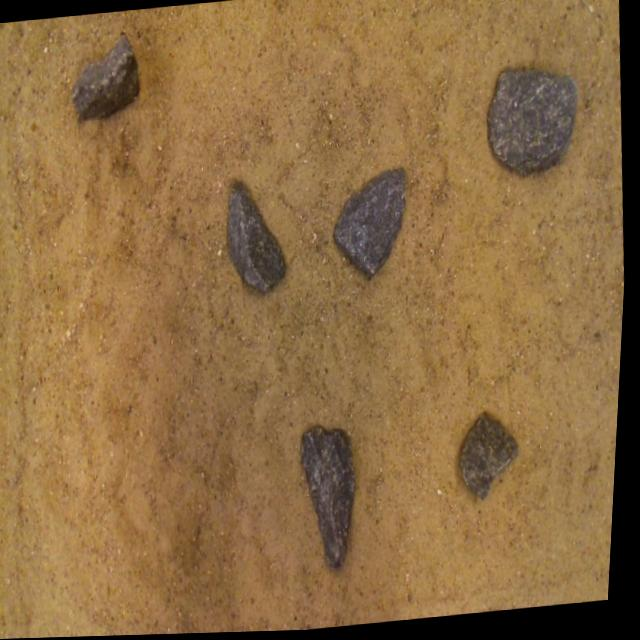rock: (488, 72, 576, 176), (335, 169, 406, 278), (305, 427, 358, 569), (229, 182, 286, 292), (71, 32, 139, 119), (464, 415, 521, 500)
